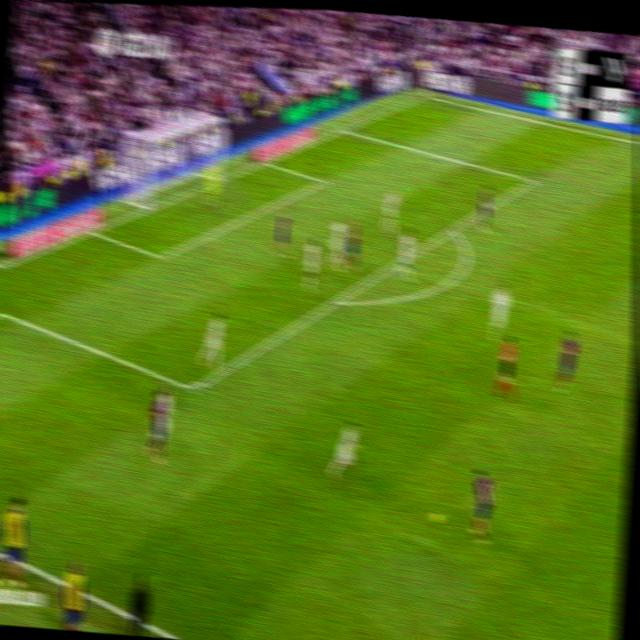bigarea_bottom_inner: (185, 375, 203, 402)
bigarea_top_inner: (524, 170, 539, 190)
bigarea_top_outter: (337, 120, 350, 135)
bottom_arc_area_intersection: (328, 290, 344, 311)
corner: (417, 89, 431, 101)
smallarea_bottom_inner: (153, 246, 168, 268)
smallarea_top_inner: (318, 174, 330, 188)
top_arc_area_intersection: (445, 220, 458, 237)
